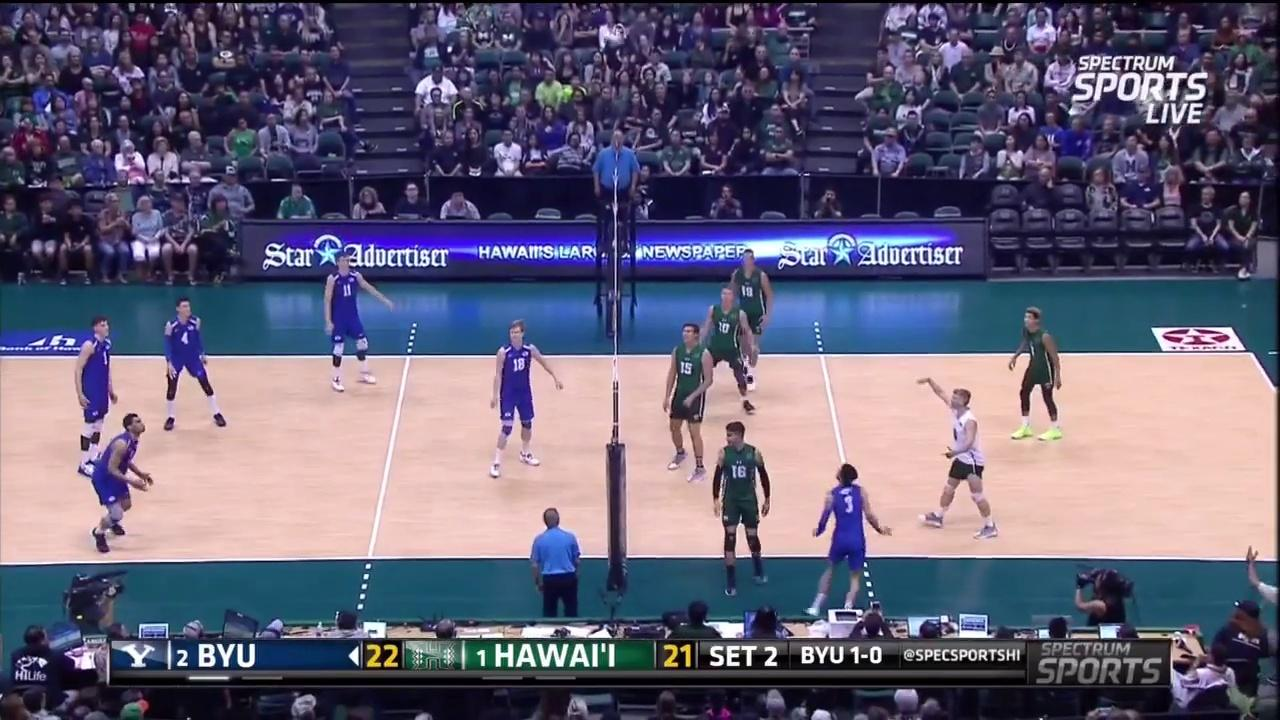player: (916, 383, 999, 535), (808, 465, 890, 614), (484, 324, 559, 478), (707, 424, 775, 593), (322, 254, 392, 390), (84, 416, 152, 550), (69, 314, 123, 482), (163, 301, 231, 427), (699, 284, 761, 420), (662, 327, 716, 475), (1008, 308, 1065, 439), (723, 244, 773, 389)
refree: (531, 505, 588, 621), (594, 130, 642, 241)
